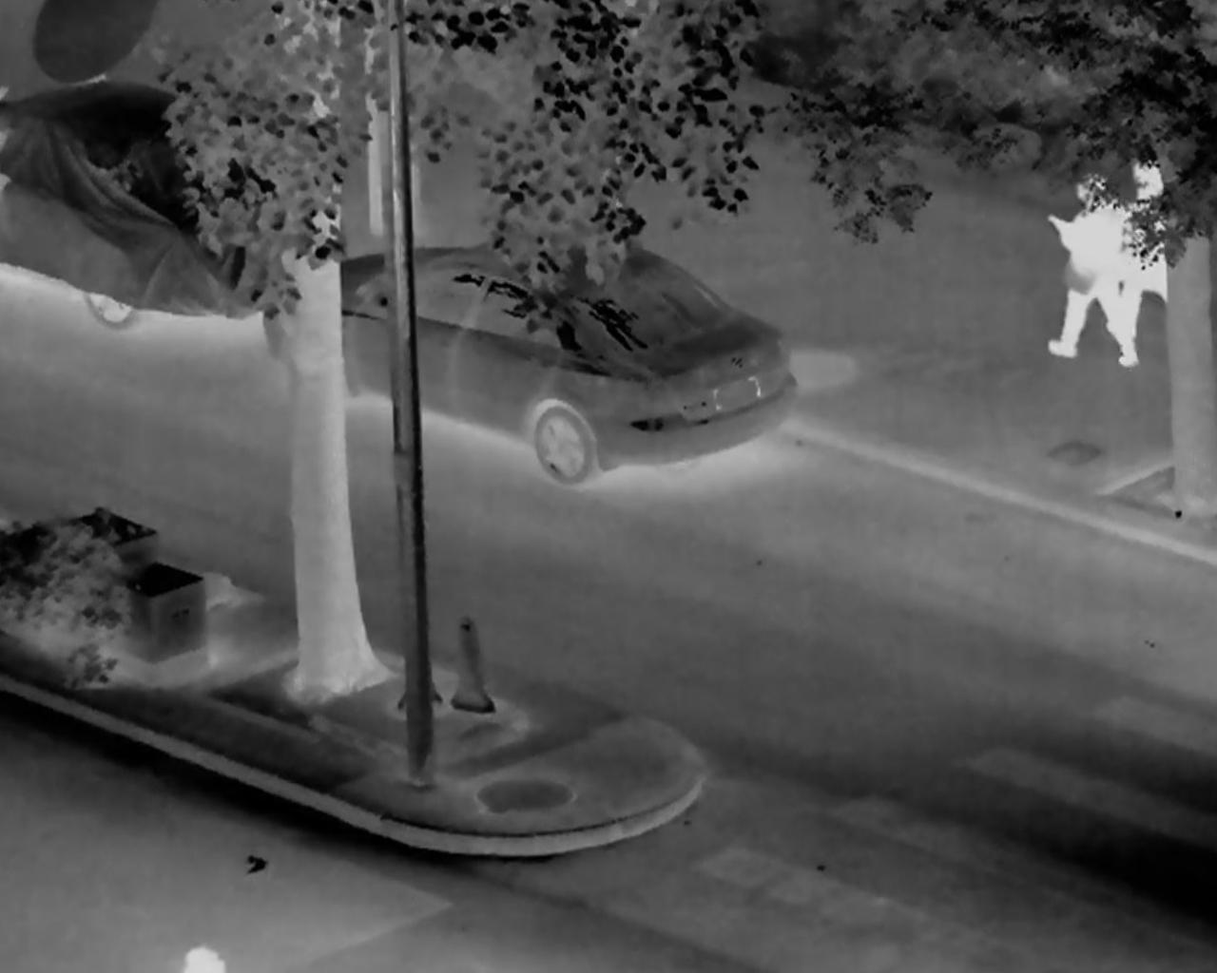person: (1048, 173, 1133, 367), (1104, 145, 1187, 336), (172, 939, 224, 973)
